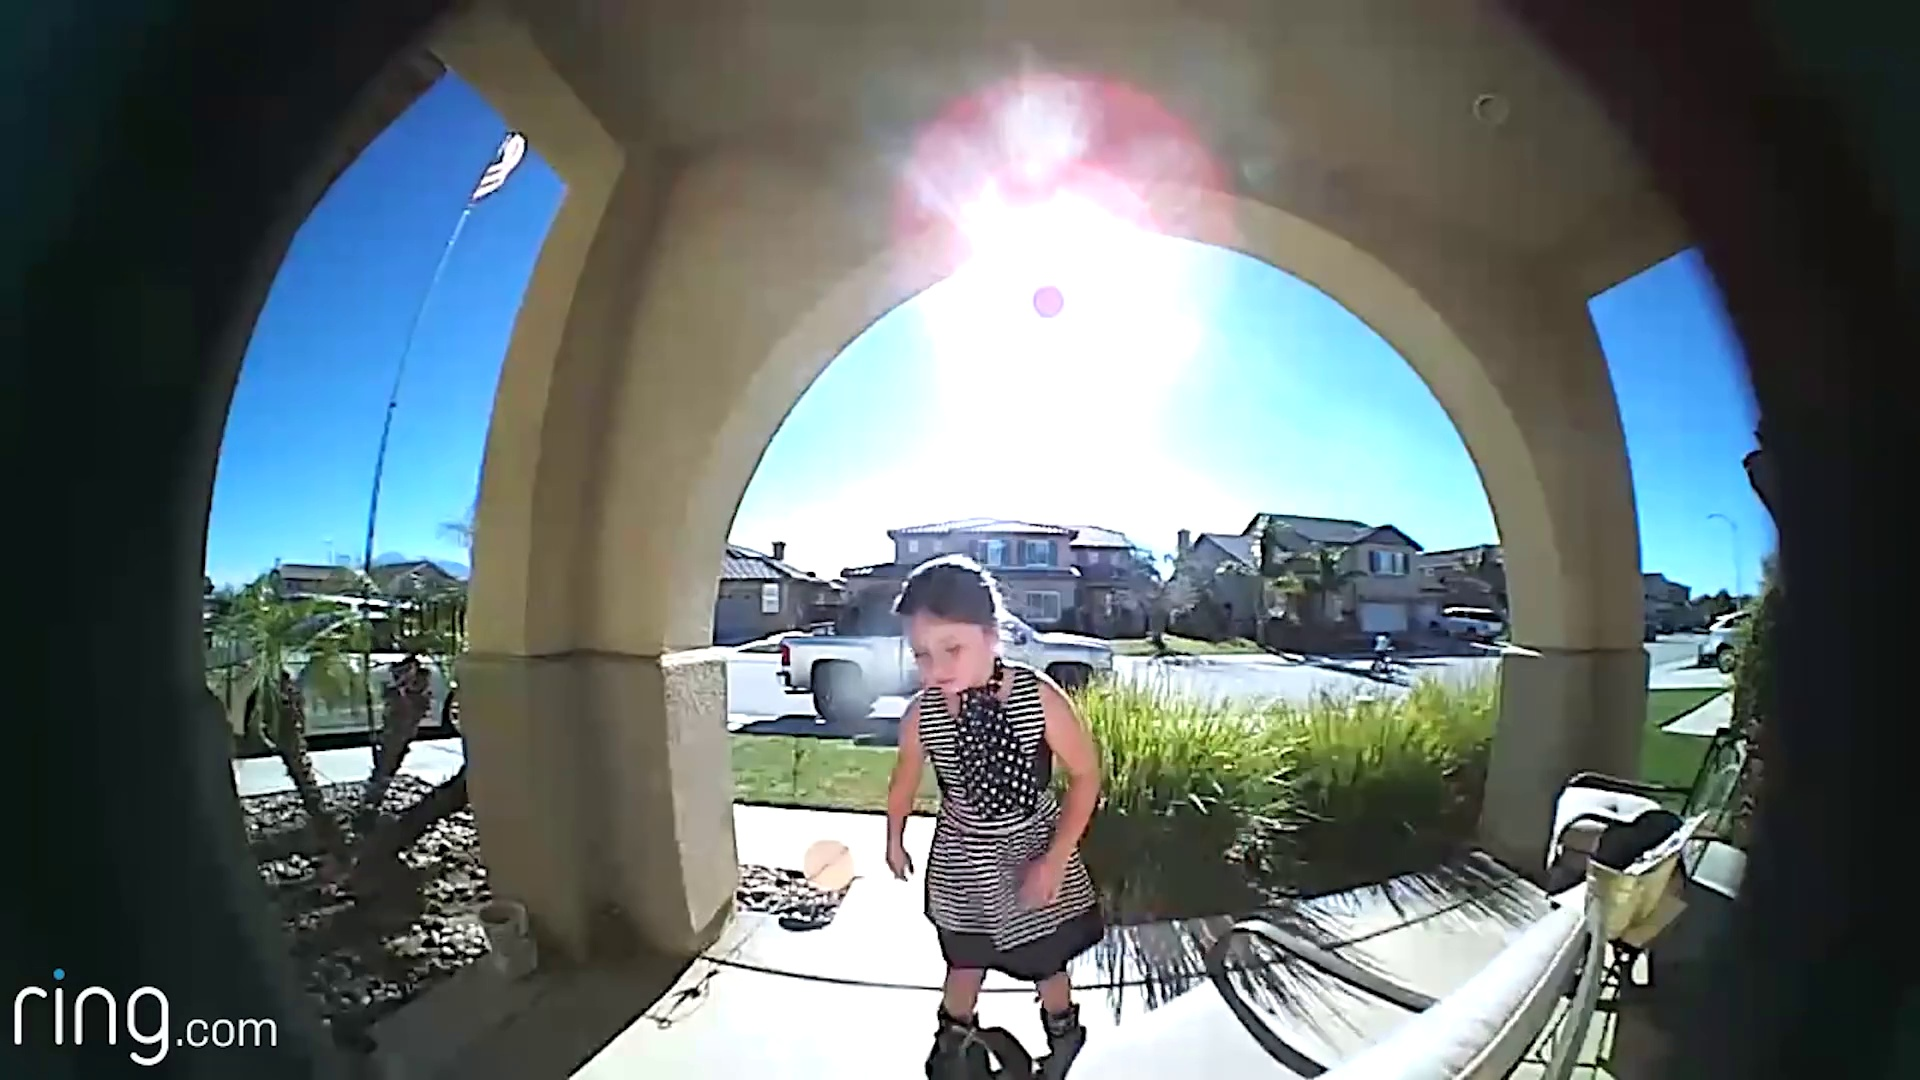face: (908, 600, 987, 697)
